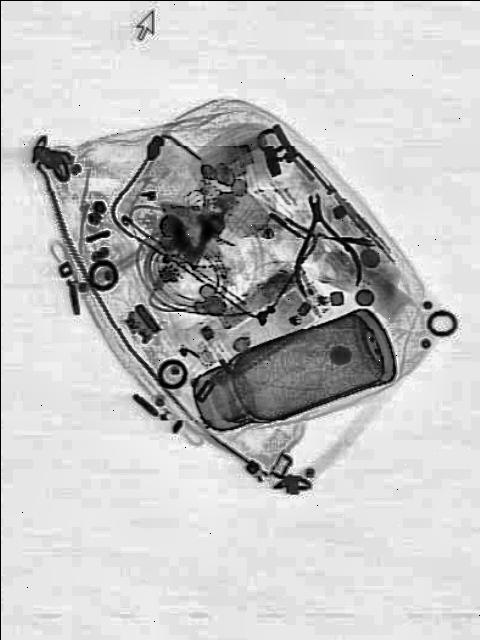Pliers: (282, 182, 366, 300)
